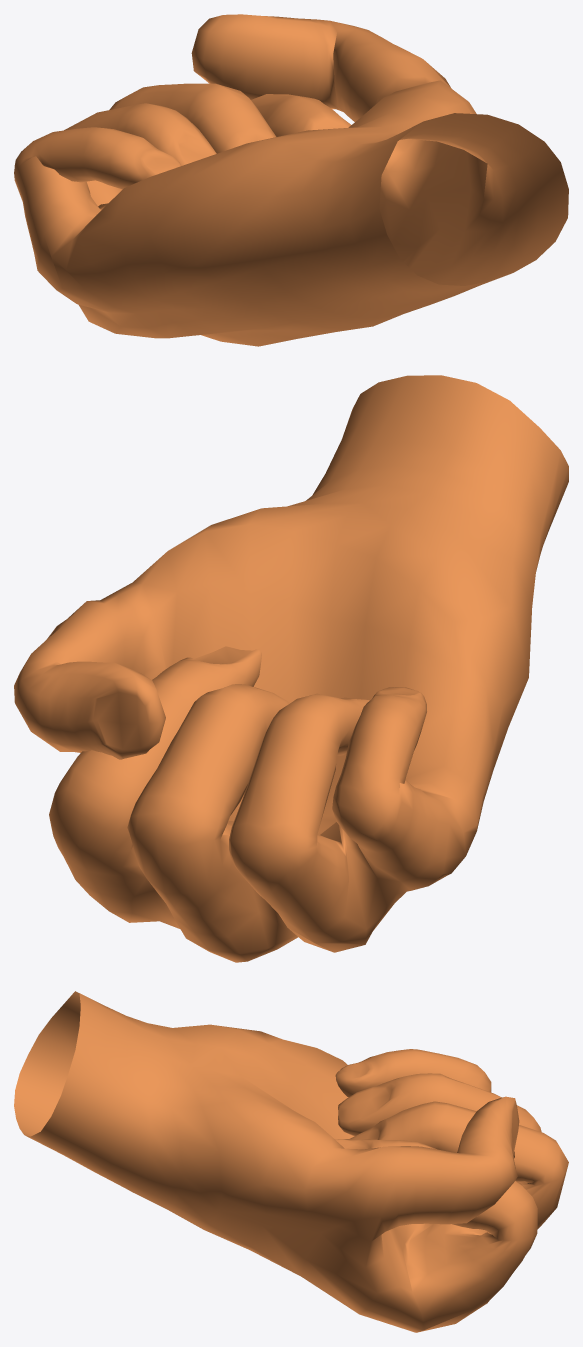
The model's file is hand.glb.
3 views of the same model, one above another, from view 1: azimuth 30°, elevation 25°; view 2: azimuth 150°, elevation 25°; view 3: azimuth 270°, elevation 25° (orthographic). The views are drawn at different scales.
Visible parts, largest first — view 1: theooo-base.008; view 2: theooo-base.008; view 3: theooo-base.008.
Part boxes in pixels (box(x1,y1,x2,y2)): theooo-base.008: box(14, 14, 568, 346); theooo-base.008: box(14, 375, 568, 962); theooo-base.008: box(14, 991, 568, 1332).
Size of the model in its own units: 0.96 by 0.8824 by 1.47.
